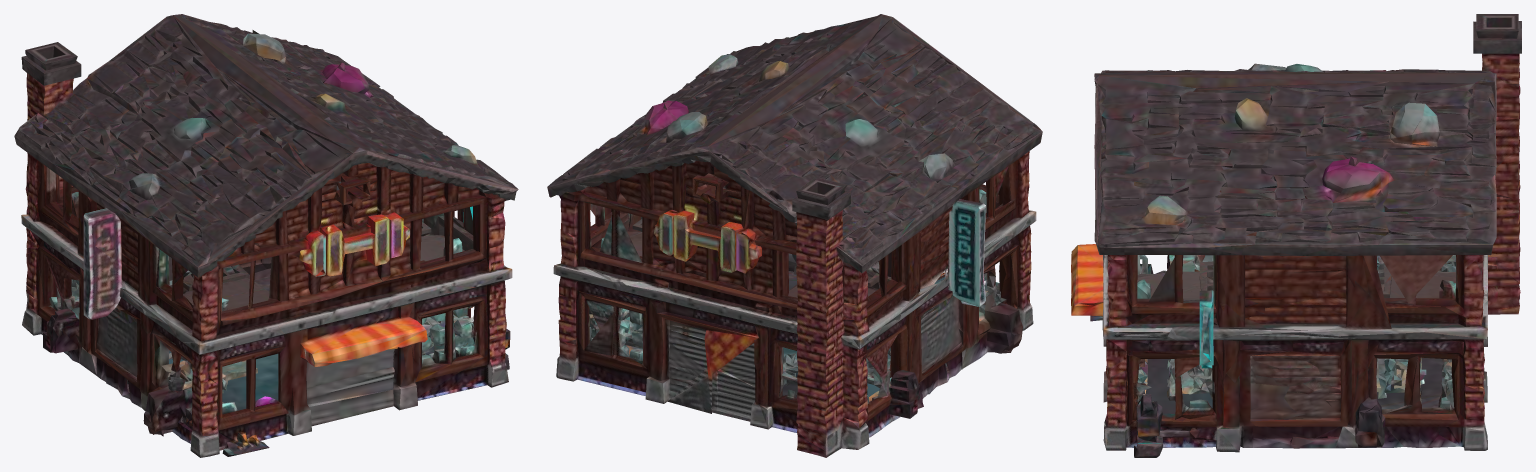
File: gym.glb
3 views of the same model, side by side, from view 1: azimuth 30°, elevation 25°; view 2: azimuth 150°, elevation 25°; view 3: azimuth 270°, elevation 25° (orthographic). The views are drawn at different scales.
Size of the model in its own units: 16 by 11.24 by 15.54.
Materials: 1 (1 with a texture image).
